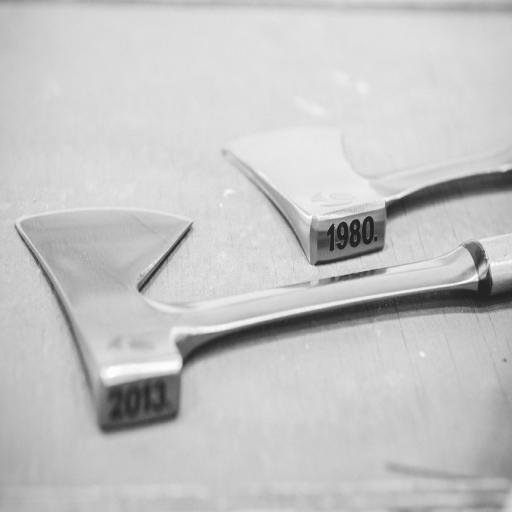Axe: (12, 202, 512, 433)
